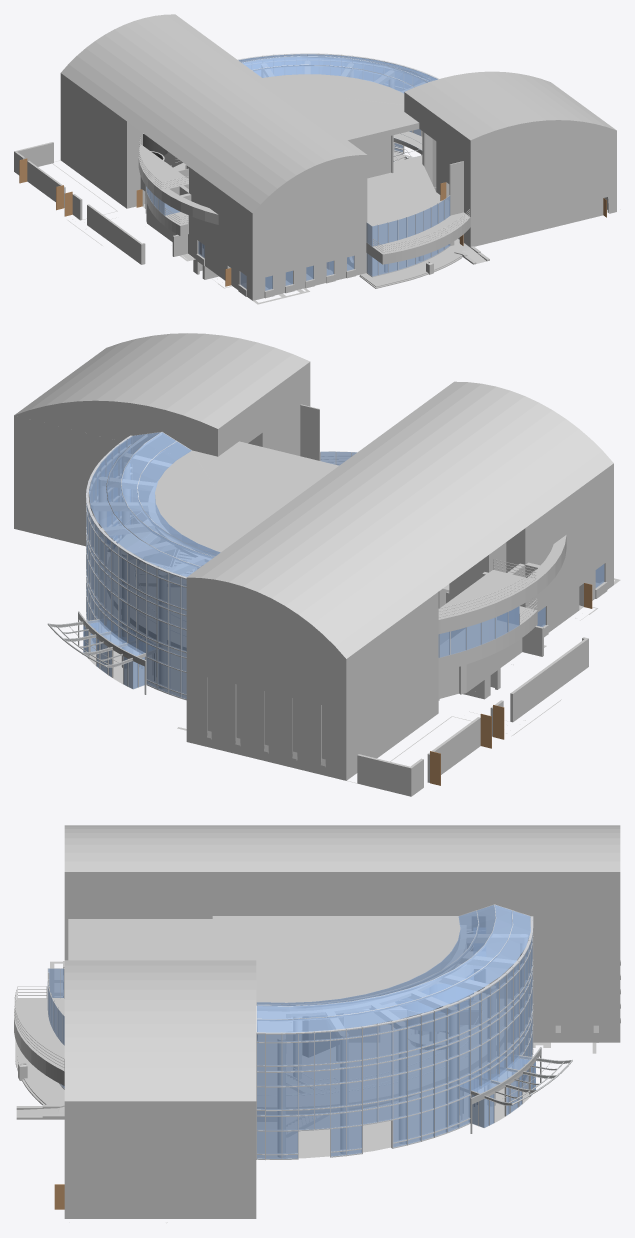
Rendered from the_cable_center_building.glb.
3 views of the same model, one above another, from view 1: azimuth 30°, elevation 25°; view 2: azimuth 150°, elevation 25°; view 3: azimuth 270°, elevation 25° (orthographic). The views are drawn at different scales.
Visible parts, largest first — view 1: Object_52, Object_11, Object_55, Object_12, Object_56, Object_3, Object_41, Object_4, Object_9, Object_61; view 2: Object_11, Object_52, Object_55, Object_12, Object_61, Object_41, Object_60, Object_4, Object_3, Object_56, Object_59, Object_64; view 3: Object_11, Object_52, Object_55, Object_12, Object_41, Object_61, Object_4, Object_60, Object_59, Object_3, Object_6, Object_64 (+1 smaller).
Boxes of the visible parts, box(x1,y1,x2,y2) form: Object_52: box(14, 55, 620, 304); Object_11: box(61, 14, 616, 263); Object_55: box(146, 54, 450, 290); Object_12: box(263, 74, 419, 161); Object_56: box(19, 158, 606, 286); Object_3: box(240, 55, 432, 87); Object_41: box(142, 153, 459, 289); Object_4: box(366, 79, 450, 277); Object_9: box(143, 134, 182, 167); Object_61: box(147, 53, 449, 275); Object_11: box(14, 333, 613, 658); Object_52: box(14, 398, 620, 796); Object_55: box(83, 432, 604, 698); Object_12: box(155, 441, 338, 573); Object_61: box(86, 438, 508, 700); Object_41: box(89, 561, 598, 697); Object_60: box(86, 438, 186, 695); Object_4: box(90, 451, 351, 668); Object_3: box(106, 432, 216, 567); Object_56: box(197, 568, 592, 785); Object_59: box(86, 435, 186, 693); Object_64: box(48, 611, 146, 694); Object_11: box(16, 825, 620, 1132); Object_52: box(14, 916, 620, 1222); Object_55: box(47, 905, 535, 1158); Object_12: box(212, 916, 472, 1133); Object_41: box(64, 1025, 530, 1158); Object_61: box(59, 916, 533, 1160); Object_4: box(47, 968, 508, 1157); Object_60: box(266, 927, 533, 1155); Object_59: box(256, 916, 533, 1159); Object_3: box(256, 904, 530, 1032); Object_6: box(302, 1013, 343, 1057); Object_64: box(470, 1047, 572, 1133).
Bounding box in the file's own units: 35.3 × 12.04 × 30.03.
